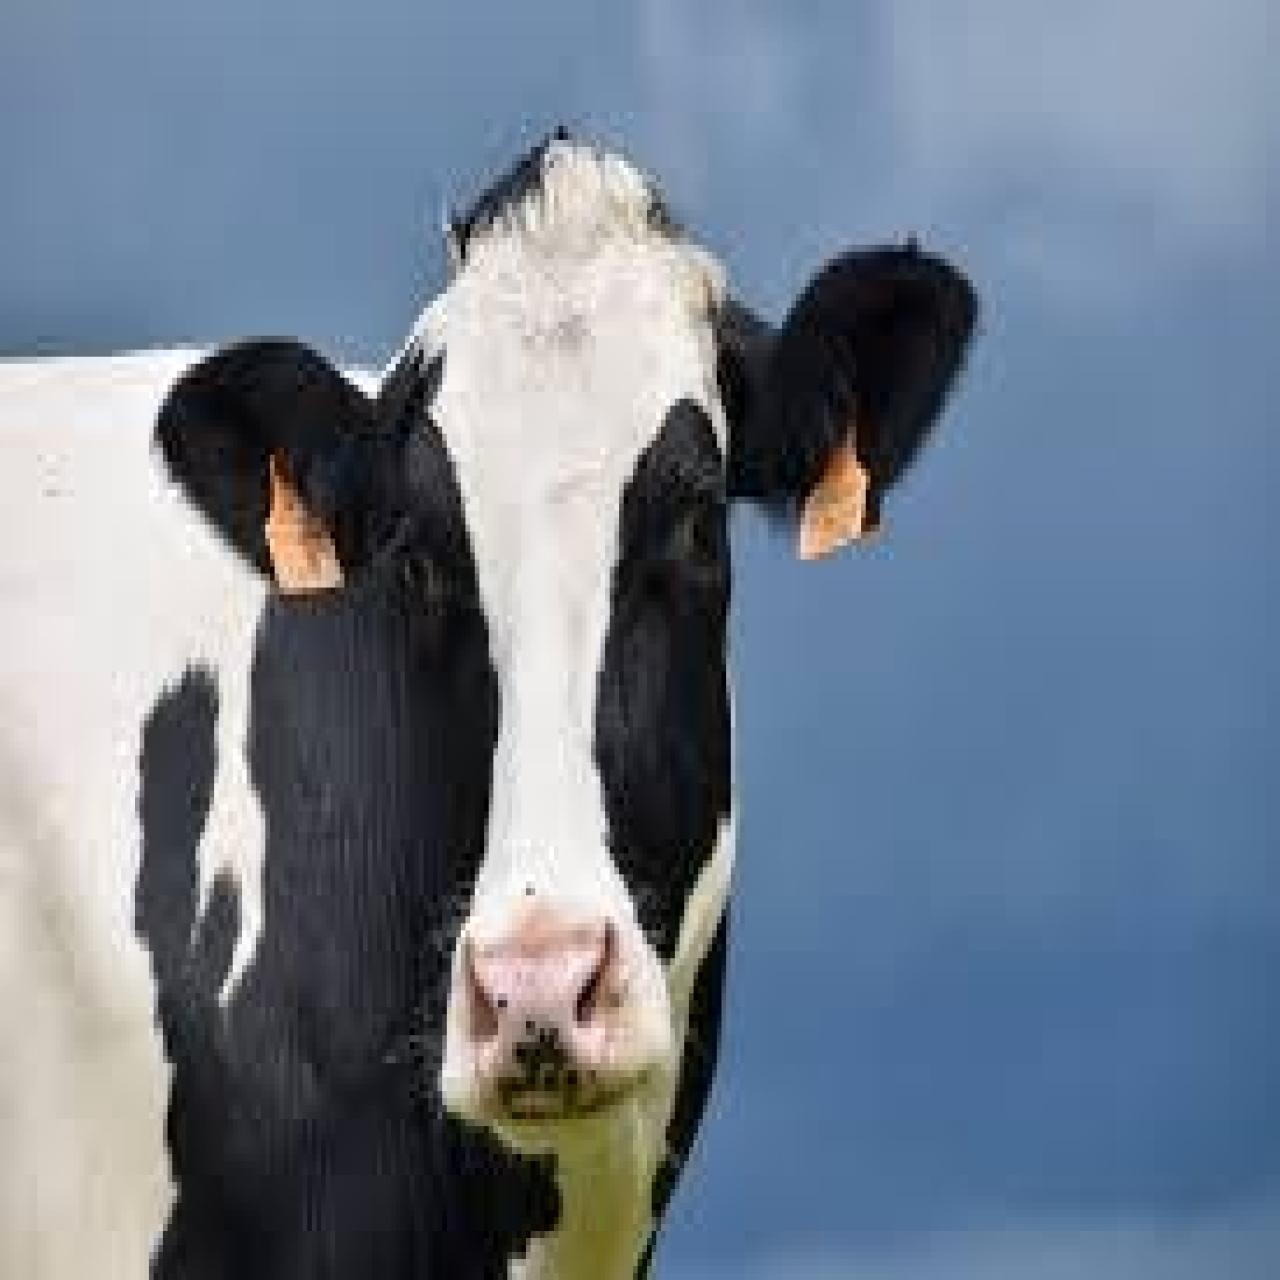cow: (0, 125, 987, 1273)
